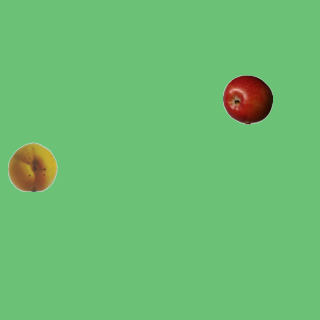Apple Braeburn: (222, 74, 272, 124)
Peach 2: (7, 141, 57, 191)
